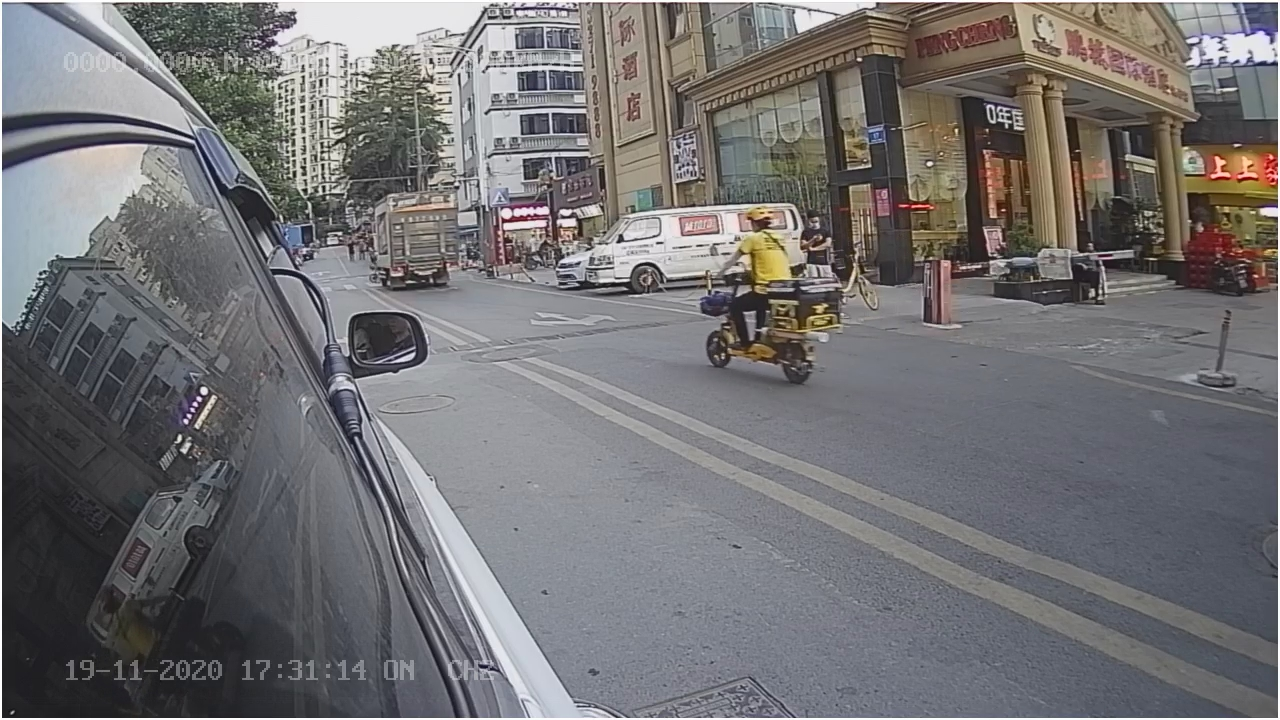person: (721, 202, 796, 287)
